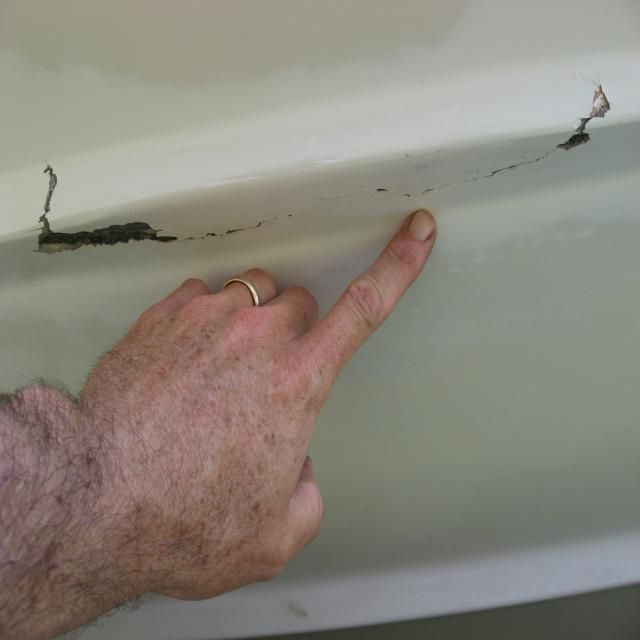Rupture: (318, 85, 613, 202), (37, 161, 180, 256), (179, 206, 341, 245)
